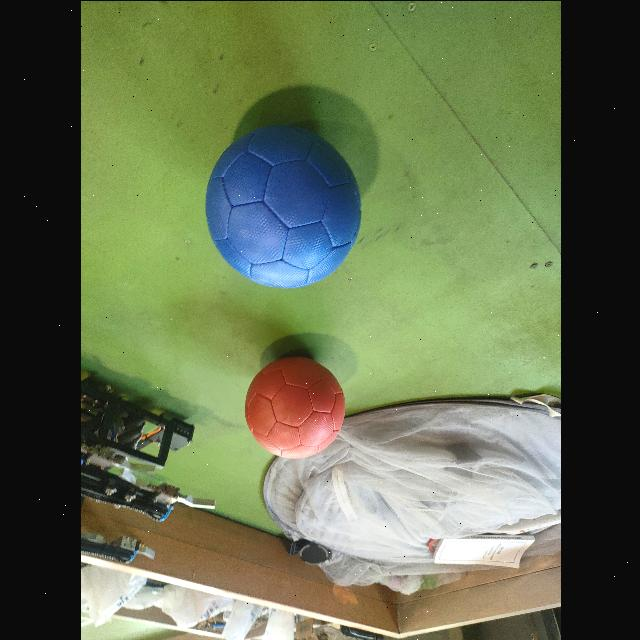B: (203, 121, 361, 287)
R: (243, 351, 345, 457)
